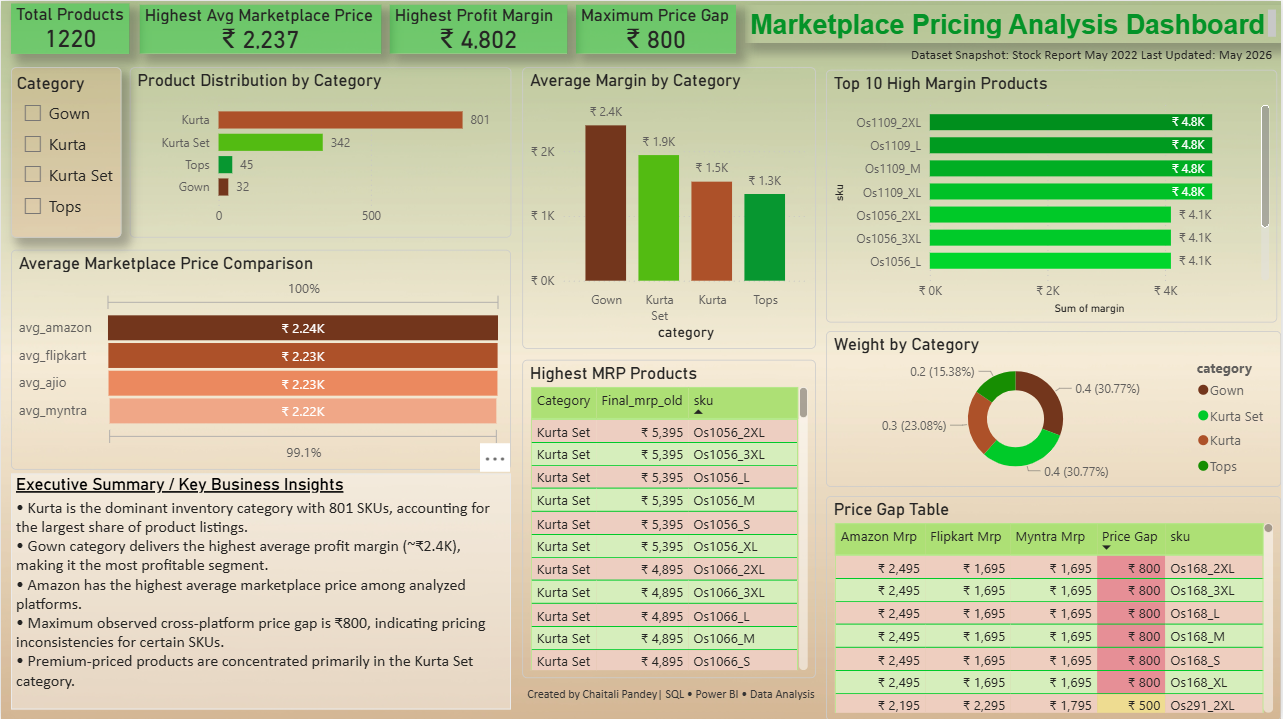

The dashboard page shown, as its layout file describes it:
{"tool":"powerbi","page":{"name":"Page 1","canvas":[1280,720],"ordinal":0},"visuals":[{"type":"clusteredBarChart","title":"Product Distribution by Category","fields":{"Category":["ProductCategory.category"],"Y":["Sum(ProductCategory.total_products)"]},"box":[128.8,66.2,381.2,170],"z":0},{"type":"funnel","title":"Average Marketplace Price Comparison","fields":{"Category":["MarketPrice.Platform"],"Y":["Sum(MarketPrice.Avg Price)"]},"box":[10,248.8,500,220],"z":1000},{"type":"clusteredColumnChart","title":"Average Margin by Category","fields":{"Category":["MarginCategory.category"],"Y":["Sum(MarginCategory.avg_margin)"]},"box":[521.2,66.2,293.8,281.2],"z":2000},{"type":"clusteredBarChart","title":"Top 10 High Margin Products","fields":{"Category":["Profitmargin.sku"],"Y":["Sum(Profitmargin.margin)"]},"box":[825,68.8,451.2,252.5],"z":3000},{"type":"tableEx","title":"Price Gap Table","fields":{"Values":["PriceGap.amazon_mrp","PriceGap.flipkart_mrp","PriceGap.myntra_mrp","PriceGap.price_gap","PriceGap.sku"]},"box":[825,495,455,225],"z":4000},{"type":"donutChart","title":"Weight by Category","fields":{"Y":["Sum(WeightCategory.avg_weight)"],"Category":["WeightCategory.category"]},"box":[825,330,455,156.2],"z":5000},{"type":"tableEx","title":"Highest MRP Products","fields":{"Values":["HighestMrpProducts.category","HighestMrpProducts.final_mrp_old","HighestMrpProducts.sku"]},"box":[521.2,358.8,293.8,318.8],"z":6000},{"type":"textbox","box":[743.8,3.8,536.2,38.8],"z":7000},{"type":"card","title":"Total Products","fields":{"Values":["Sum(ProductCategory.total_products)"]},"box":[10,2.5,118.8,50],"z":8000},{"type":"card","title":"Highest Avg Marketplace Price","fields":{"Values":["Max(MarketPrice.Avg Price)"]},"box":[138.8,3.8,241.2,48.8],"z":9000},{"type":"card","title":"Highest Profit Margin","fields":{"Values":["Max(Profitmargin.margin)"]},"box":[388.8,3.8,177.5,48.8],"z":10000},{"type":"card","title":"Maximum Price Gap","fields":{"Values":["Max(PriceGap.price_gap)"]},"box":[575,3.8,160,48.8],"z":11000},{"type":"slicer","title":"Category","fields":{"Values":["WeightCategory.category"]},"box":[10,66.2,110,170],"z":12000},{"type":"textbox","title":"Executive Summary / Key Business Insights","box":[10,472.5,500,236.2],"z":13000},{"type":"textbox","box":[860,38.8,416.2,27.5],"z":14000},{"type":"textbox","box":[521.2,677.5,303.8,31.2],"z":15000}]}

Visuals, with their boxes in screenshot pixels (x1, y1, x2, y2), scaled from the page's 1280x720 canvas onto the 1283x719 screenshot:
"Product Distribution by Category" clusteredBarChart: [129,66,511,236]
"Average Marketplace Price Comparison" funnel: [10,248,511,468]
"Average Margin by Category" clusteredColumnChart: [522,66,817,347]
"Top 10 High Margin Products" clusteredBarChart: [827,69,1279,321]
"Price Gap Table" tableEx: [827,494,1282,718]
"Weight by Category" donutChart: [827,330,1282,486]
"Highest MRP Products" tableEx: [522,358,817,677]
textbox: [746,4,1282,43]
"Total Products" card: [10,2,129,52]
"Highest Avg Marketplace Price" card: [139,4,381,53]
"Highest Profit Margin" card: [390,4,568,53]
"Maximum Price Gap" card: [576,4,737,53]
"Category" slicer: [10,66,120,236]
"Executive Summary / Key Business Insights" textbox: [10,472,511,708]
textbox: [862,39,1279,66]
textbox: [522,677,827,708]
